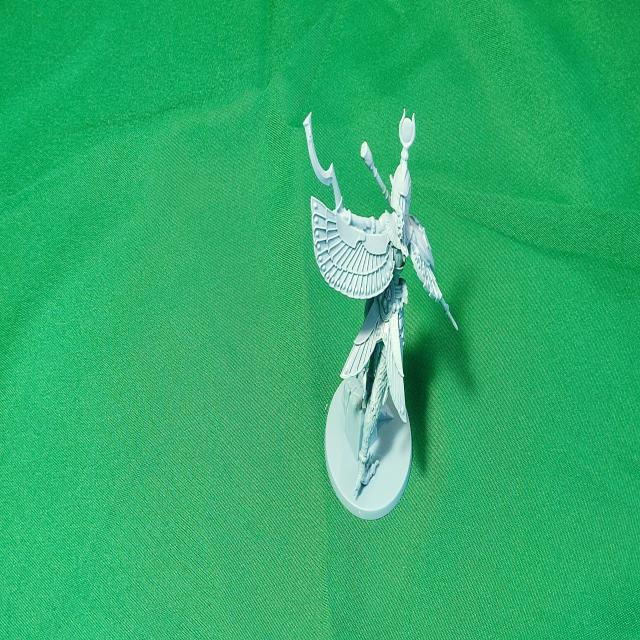isis: (285, 0, 471, 640)
